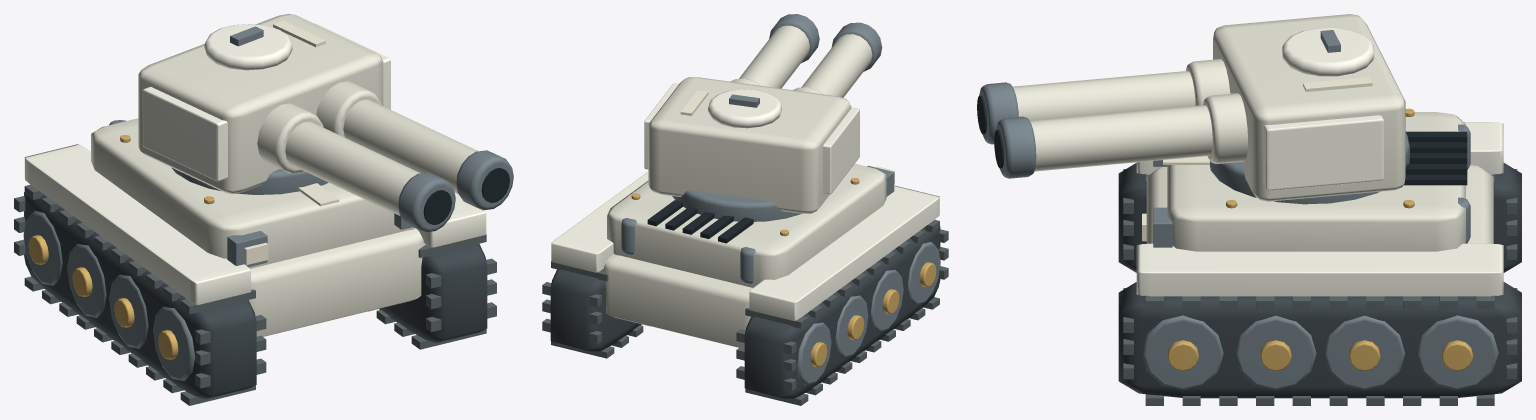
The model's file is tank_06_ivory_duelist.glb.
3 views of the same model, side by side, from view 1: azimuth 30°, elevation 25°; view 2: azimuth 150°, elevation 25°; view 3: azimuth 270°, elevation 25° (orthographic). The views are drawn at different scales.
Parts seen in each view (by area): view 1: Upper deck.005, Armored turret.001, Track guard.010, Lower hull.005, Track belt.010, Track belt.011, Cannon tube.005, Cannon tube.006, Turret cheek.002, Commander hatch.005, Barrel collar.005, Muzzle rim.005 (+21 smaller); view 2: Armored turret.001, Upper deck.005, Lower hull.005, Track guard.010, Track belt.010, Track belt.011, Track guard.011, Cannon tube.005, Cannon tube.006, Turret bearing.005, Turret cheek.002, Commander hatch.005 (+15 smaller); view 3: Track belt.011, Upper deck.005, Track guard.011, Armored turret.001, Cannon tube.006, Turret cheek.003, Cannon tube.005, Track belt.010, Road wheel.044, Road wheel.047, Road wheel.045, Road wheel.046 (+19 smaller).
Boxes of the visible parts, box(x1,y1,x2,y2) form: Upper deck.005: box(91, 118, 414, 268); Armored turret.001: box(138, 14, 383, 193); Track guard.010: box(24, 144, 250, 304); Lower hull.005: box(249, 228, 425, 336); Track belt.010: box(24, 192, 256, 399); Track belt.011: box(379, 243, 487, 343); Cannon tube.005: box(285, 121, 420, 215); Cannon tube.006: box(343, 99, 478, 193); Turret cheek.002: box(142, 87, 227, 181); Commander hatch.005: box(204, 24, 292, 70); Barrel collar.005: box(257, 103, 323, 173); Muzzle rim.005: box(398, 172, 455, 232); Armored turret.001: box(648, 77, 851, 213); Upper deck.005: box(607, 163, 886, 287); Lower hull.005: box(602, 253, 752, 347); Track guard.010: box(749, 185, 939, 320); Track belt.010: box(744, 226, 940, 400); Track belt.011: box(550, 269, 641, 353); Track guard.011: box(551, 171, 648, 272); Cannon tube.005: box(801, 34, 872, 97); Cannon tube.006: box(739, 25, 809, 88); Turret bearing.005: box(672, 190, 801, 221); Turret cheek.002: box(823, 107, 859, 194); Commander hatch.005: box(708, 89, 781, 128); Track belt.011: box(1118, 282, 1521, 398); Upper deck.005: box(1167, 112, 1465, 251); Track guard.011: box(1136, 243, 1503, 296); Armored turret.001: box(1213, 14, 1405, 201); Cannon tube.006: box(1030, 105, 1212, 171); Turret cheek.003: box(1263, 115, 1384, 190); Cannon tube.005: box(1013, 71, 1195, 120); Track belt.010: box(1118, 163, 1521, 272); Road wheel.044: box(1142, 315, 1223, 390); Road wheel.047: box(1417, 315, 1498, 390); Road wheel.045: box(1235, 315, 1316, 390); Road wheel.046: box(1324, 315, 1405, 390).
Size of the model in its own units: 1.56 by 1.31 by 2.24.
